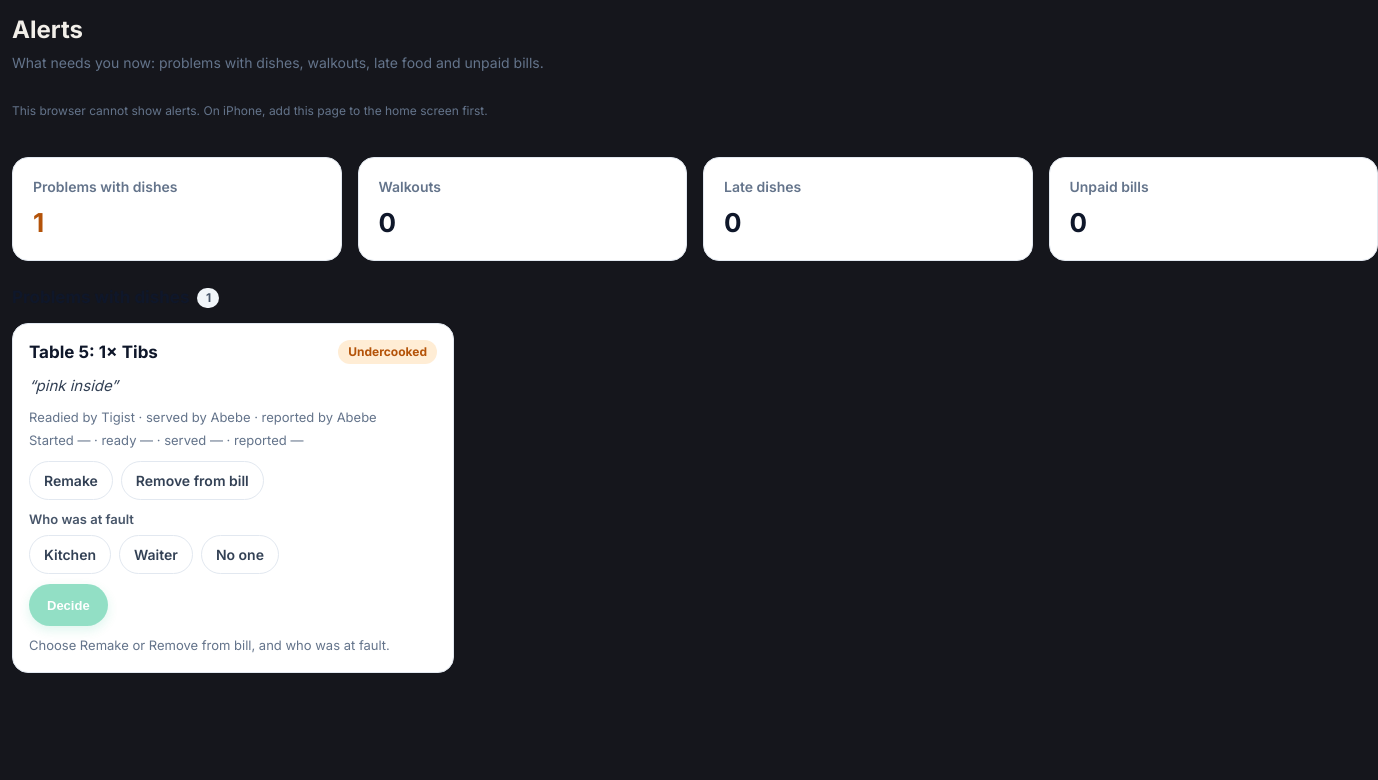
it: DecisionsScreen › chooses nothing for the manager: Decide waits for a decision and who was at fault
The width and height of the screenshot is (1378, 780).
Expected: the button "Decide" is disabled, 29,584 -> 108,626
Click the radio button labelled "Remake" at (71, 480), box 29,460 -> 113,500
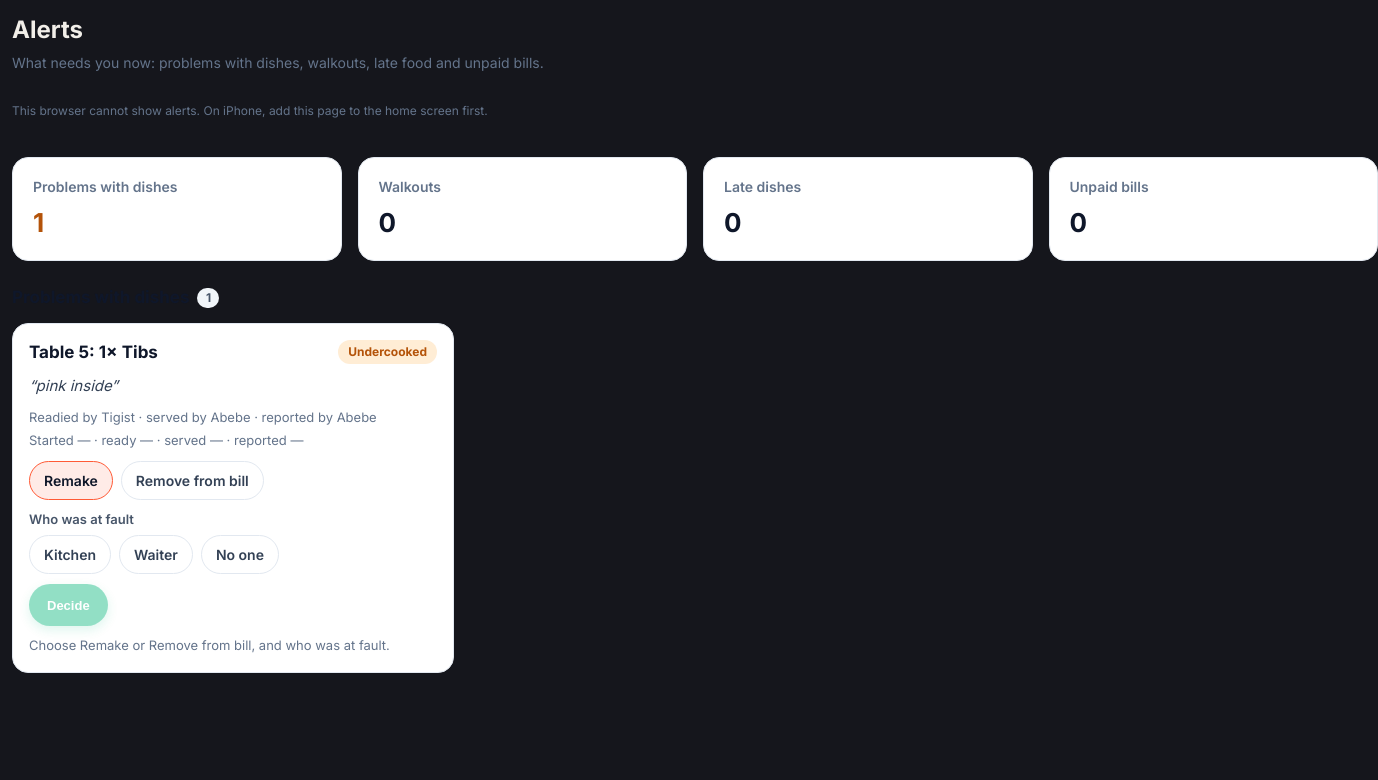
Expected: the button "Decide" is disabled, 29,584 -> 108,626
Click the radio button labelled "Waiter" at (156, 554), box 119,535 -> 193,574
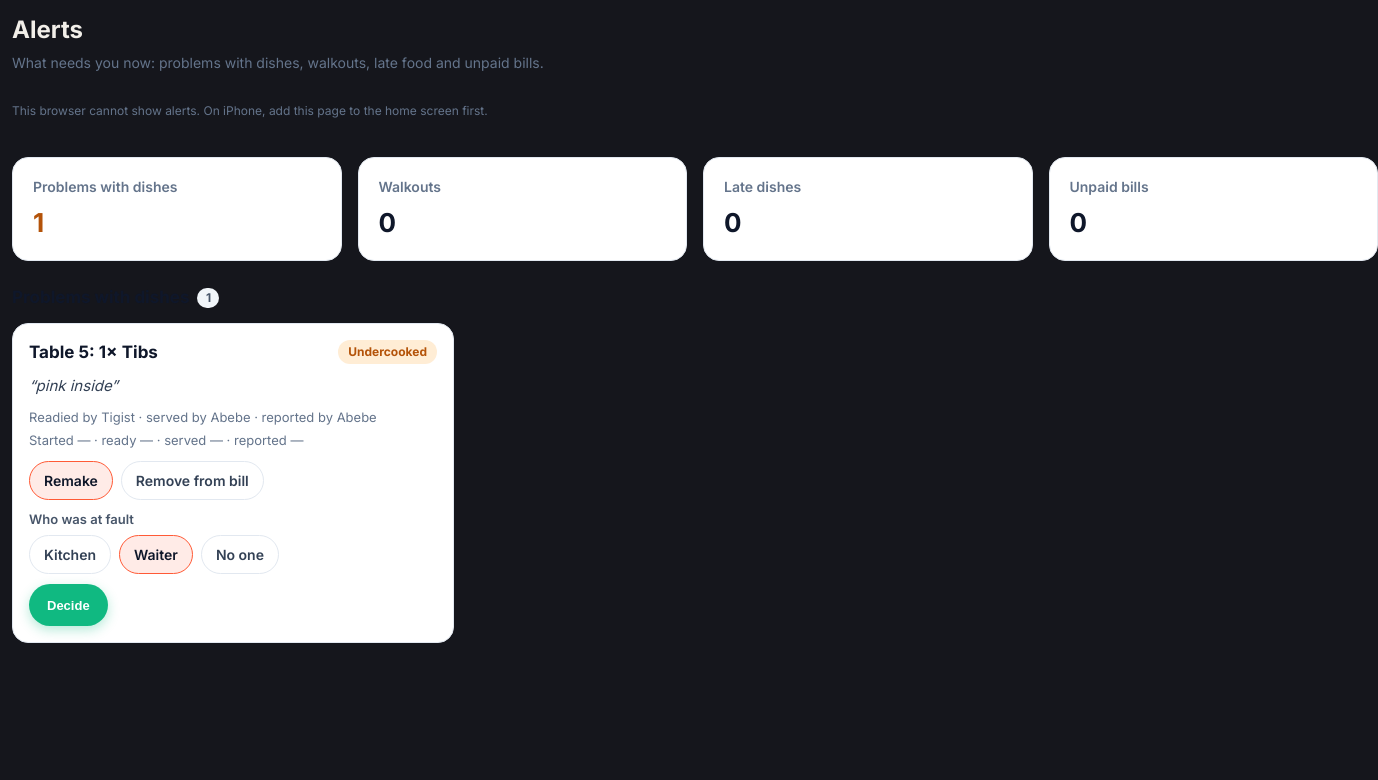
Now the button "Decide" is enabled, box 29,584 -> 108,626
